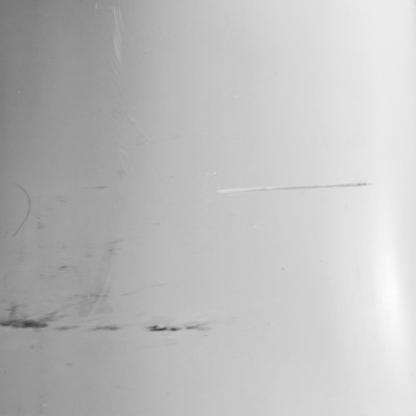sunshang: (221, 180, 374, 194), (10, 181, 31, 234)
